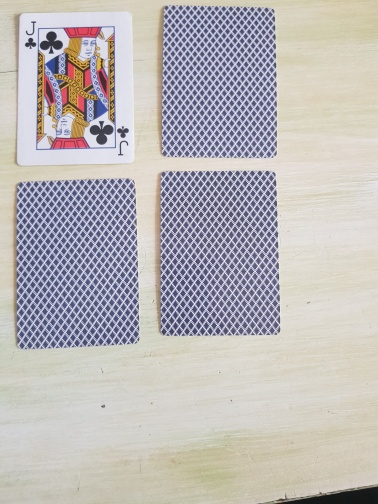jack: (15, 10, 136, 166)
